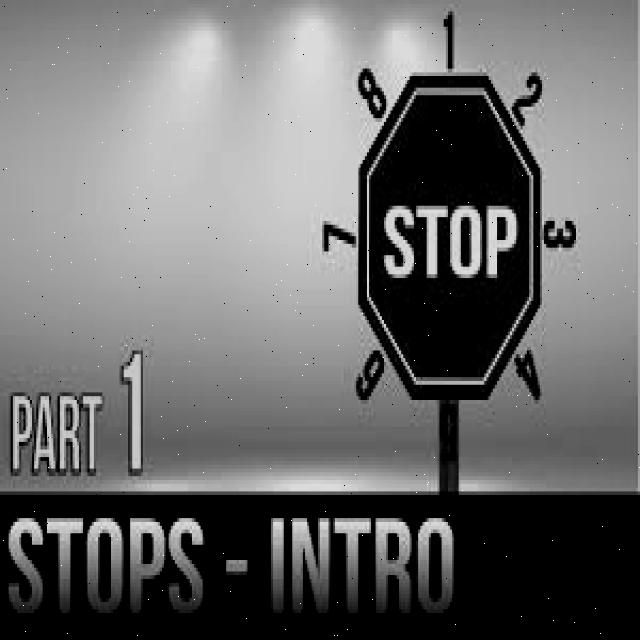stop sign: (361, 77, 544, 397)
